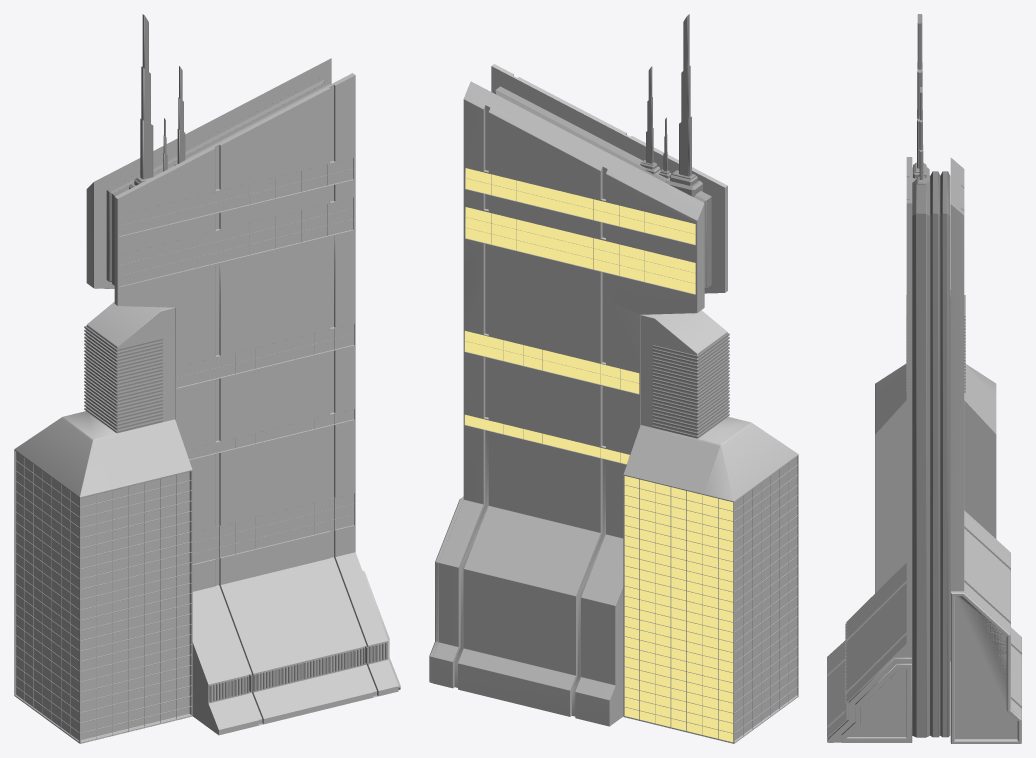
3 views of the same model, side by side, from view 1: azimuth 30°, elevation 25°; view 2: azimuth 150°, elevation 25°; view 3: azimuth 270°, elevation 25° (orthographic). The views are drawn at different scales.
Parts seen in each view (by area): view 1: Side_01_Base_01_0, SecondPart_2_Base_01_0, Side_02_Base_01_0, Plane_0_instance_3_2_Base_01_0, Plane_0_instance_Base_01_0, Extrude_InSide_02_instance_Base_03_0, SlopedTopAntenna_1_Antenna_03_0, Extrude_InSide_02_instance_2_Base_03_0, Plane_3_instance_2_2_Base_01_0; view 2: Side_02_Base_01_0, SecondPart_2_Base_01_0, Plane_0_instance_2_3_Windows_0, Plane_3_instance_2_Windows_0, Side_01_Base_01_0, Plane_0_instance_2_2_Base_01_0, Plane_4_instance_2_Windows_0, Plane_2_instance_2_Windows_0, Plane_0_instance_Base_01_0, Extrude_InSide_01_2_Base_03_0, SlopedTopAntenna_1_Antenna_03_0, Plane_1_instance_2_Windows_0 (+3 smaller); view 3: Side_01_Base_01_0, Side_02_Base_01_0, SecondPart_2_Base_01_0, Extrude_InSide_01_2_Base_03_0, Side_02_Line_01_Base_01_0, Extrude_InSide_02_instance_2_Base_03_0, Extrude_InSide_02_instance_Base_03_0, Side_01_Line_02_Base_01_0, SlopedTopAntenna_1_Antenna_03_0, Side_01_Line_01_Base_01_0, SlopedTopAntenna_2_Antenna_03_0.
Boxes of the visible parts, <box> form: Side_01_Base_01_0: <box>114,73,398,735</box>; SecondPart_2_Base_01_0: <box>14,302,192,743</box>; Side_02_Base_01_0: <box>86,58,331,288</box>; Plane_0_instance_3_2_Base_01_0: <box>79,470,192,743</box>; Plane_0_instance_Base_01_0: <box>15,457,79,743</box>; Extrude_InSide_02_instance_Base_03_0: <box>106,78,324,282</box>; SlopedTopAntenna_1_Antenna_03_0: <box>129,14,157,189</box>; Extrude_InSide_02_instance_2_Base_03_0: <box>112,82,329,285</box>; Plane_3_instance_2_2_Base_01_0: <box>120,204,353,286</box>; Side_02_Base_01_0: <box>433,81,704,726</box>; SecondPart_2_Base_01_0: <box>623,310,798,743</box>; Plane_0_instance_2_3_Windows_0: <box>624,476,733,742</box>; Plane_3_instance_2_Windows_0: <box>465,207,695,294</box>; Side_01_Base_01_0: <box>491,64,727,293</box>; Plane_0_instance_2_2_Base_01_0: <box>623,474,734,743</box>; Plane_4_instance_2_Windows_0: <box>465,168,695,244</box>; Plane_2_instance_2_Windows_0: <box>465,331,639,393</box>; Plane_0_instance_Base_01_0: <box>734,462,797,743</box>; Extrude_InSide_01_2_Base_03_0: <box>495,86,711,288</box>; SlopedTopAntenna_1_Antenna_03_0: <box>665,14,702,196</box>; Plane_1_instance_2_Windows_0: <box>465,414,629,463</box>; Side_01_Base_01_0: <box>827,157,912,742</box>; Side_02_Base_01_0: <box>950,157,1021,742</box>; SecondPart_2_Base_01_0: <box>875,290,996,661</box>; Extrude_InSide_01_2_Base_03_0: <box>912,175,930,737</box>; Side_02_Line_01_Base_01_0: <box>951,591,1021,743</box>; Extrude_InSide_02_instance_2_Base_03_0: <box>930,171,940,737</box>; Extrude_InSide_02_instance_Base_03_0: <box>940,171,950,737</box>; Side_01_Line_02_Base_01_0: <box>841,663,911,742</box>; SlopedTopAntenna_1_Antenna_03_0: <box>912,14,929,182</box>; Side_01_Line_01_Base_01_0: <box>828,657,911,742</box>; SlopedTopAntenna_2_Antenna_03_0: <box>915,87,927,184</box>.
Size of the model in its own units: 57.67 by 128 by 35.52.
